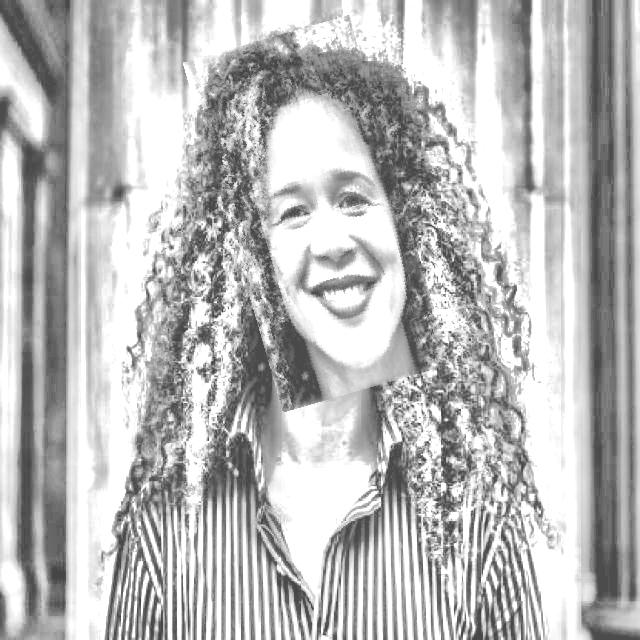happy: (207, 24, 427, 404)
